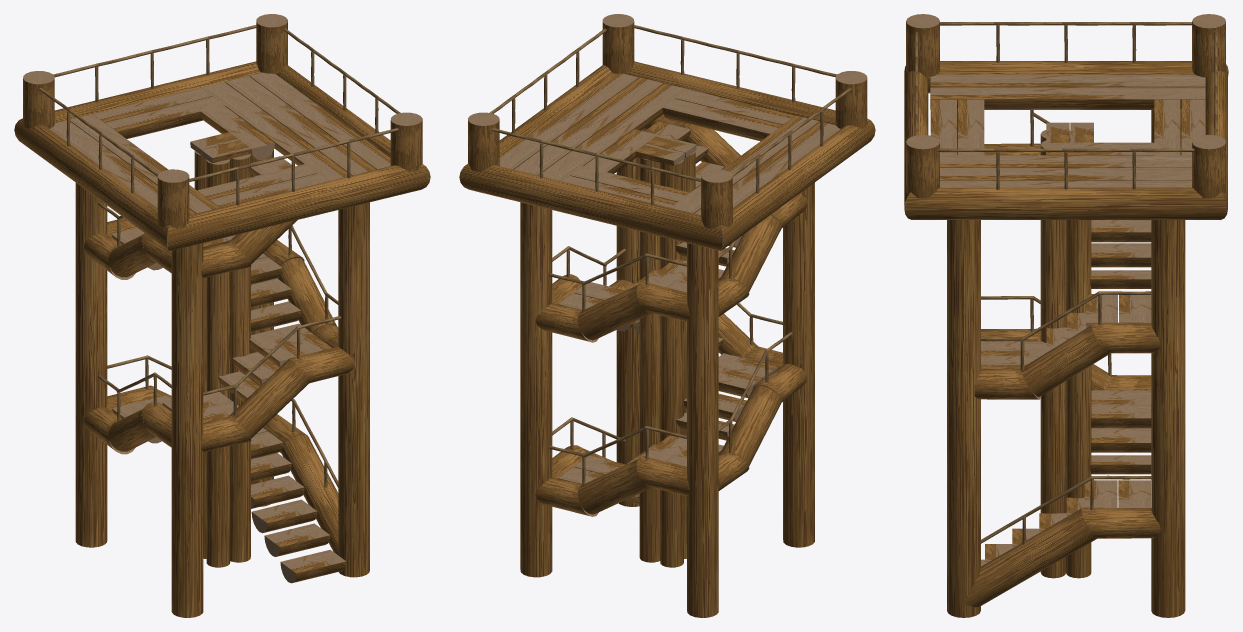
File: WoodTower.fbx
3 renders of one model, left to right at view 1: azimuth 30°, elevation 25°; view 2: azimuth 150°, elevation 25°; view 3: azimuth 270°, elevation 25°, orthographic. The views are drawn at different scales.
Parts seen in each view (by area): view 1: TowerModel, Floor; view 2: TowerModel, Floor; view 3: TowerModel, Floor.
Part boxes in pixels (<box>): TowerModel: <box>14,14,430,617</box>; Floor: <box>50,72,390,583</box>; TowerModel: <box>459,14,875,617</box>; Floor: <box>499,73,840,503</box>; TowerModel: <box>904,14,1228,617</box>; Floor: <box>930,74,1205,566</box>.
Bounding box in the file's own units: 2379 × 3937 × 2383.
